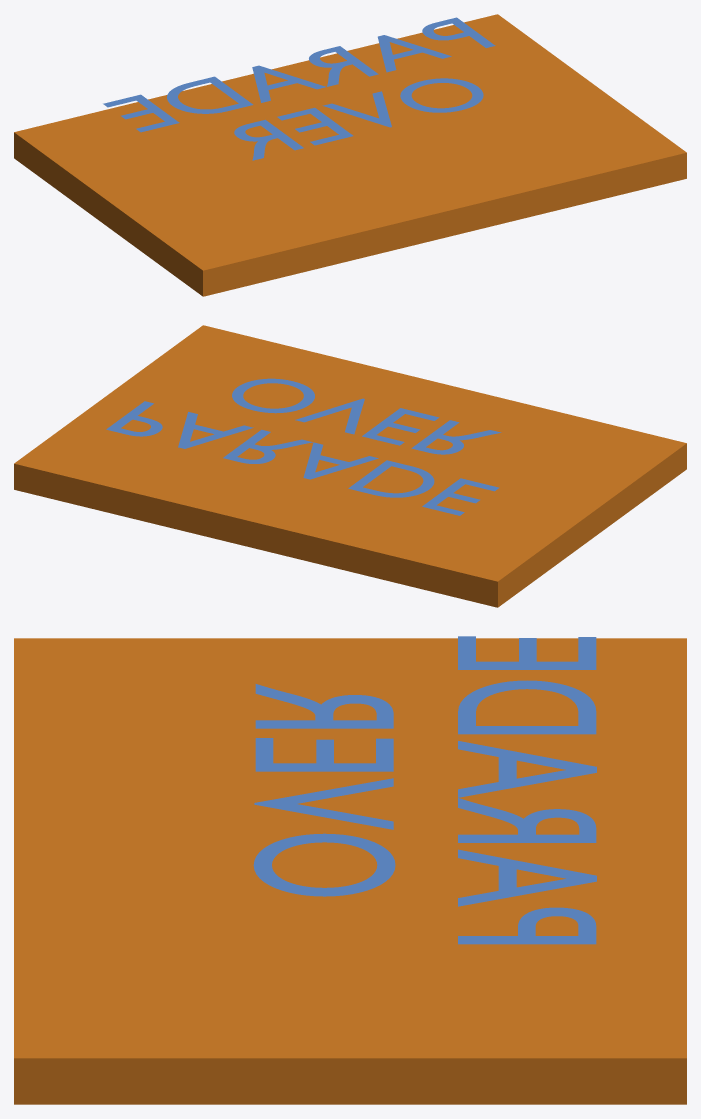
File: end.fbx
The picture shows the model from 3 angles, top to bottom: view 1: azimuth 30°, elevation 25°; view 2: azimuth 150°, elevation 25°; view 3: azimuth 270°, elevation 25°; orthographic projection. The views are drawn at different scales.
Parts seen in each view (by area): view 1: paradeover; view 2: paradeover; view 3: paradeover.
Part boxes in pixels (bbox=[...]): paradeover: bbox=[14, 14, 686, 296]; paradeover: bbox=[14, 325, 686, 607]; paradeover: bbox=[14, 636, 686, 1104].
Size of the model in its own units: 1187 by 135 by 804.
